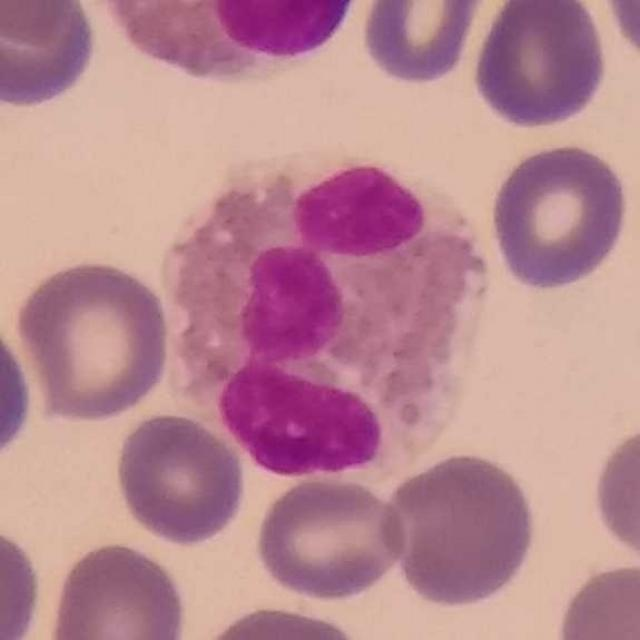Eosinophil: (163, 156, 487, 484), (105, 1, 365, 78)
RBC: (11, 255, 175, 425), (375, 448, 541, 611), (486, 138, 634, 294), (251, 472, 412, 603), (110, 408, 248, 548), (468, 0, 611, 132), (44, 537, 191, 640), (357, 0, 492, 89), (0, 0, 101, 111), (587, 412, 640, 576), (551, 557, 640, 640), (192, 601, 370, 640), (0, 305, 37, 475), (0, 521, 46, 640), (0, 0, 85, 47), (596, 0, 640, 69)
